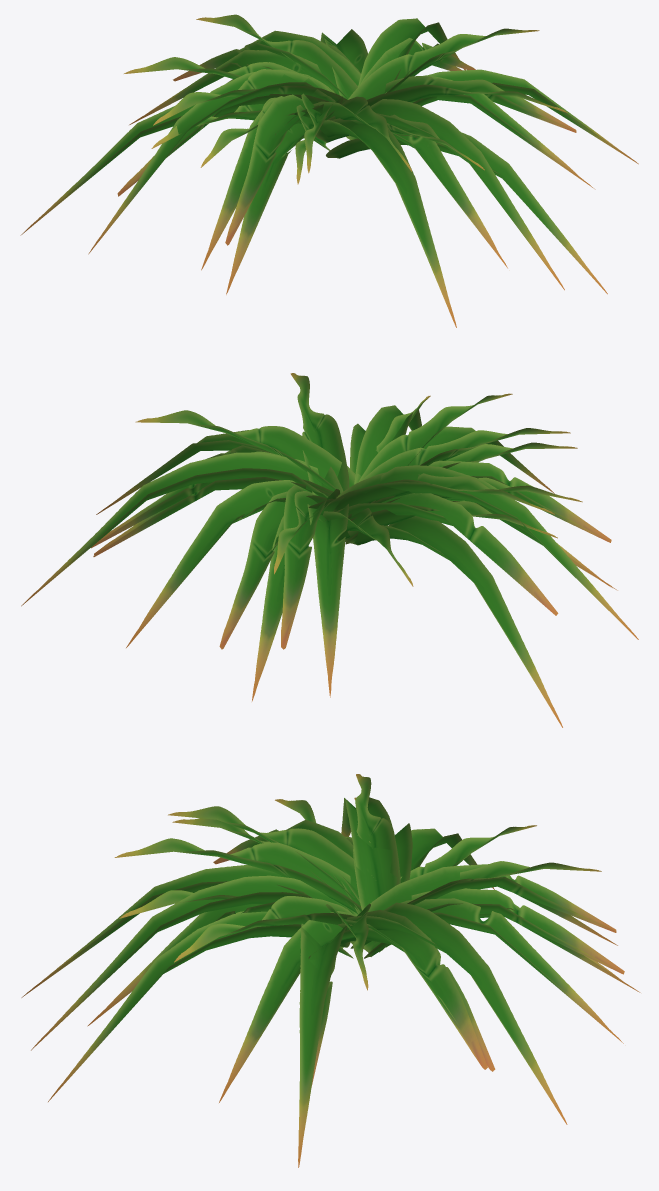
The model's file is YuccaLeaves.fbx.
3 views of the same model, one above another, from view 1: azimuth 30°, elevation 25°; view 2: azimuth 150°, elevation 25°; view 3: azimuth 270°, elevation 25° (orthographic). The views are drawn at different scales.
Parts seen in each view (by area): view 1: Leaf_Collection; view 2: Leaf_Collection; view 3: Leaf_Collection.
Boxes of the visible parts, left/top/right/bottom form: Leaf_Collection: left=20, top=14, right=638, bottom=327; Leaf_Collection: left=21, top=373, right=638, bottom=727; Leaf_Collection: left=21, top=774, right=640, bottom=1167.
Bounding box in the file's own units: 2.34 × 0.6835 × 2.13.
